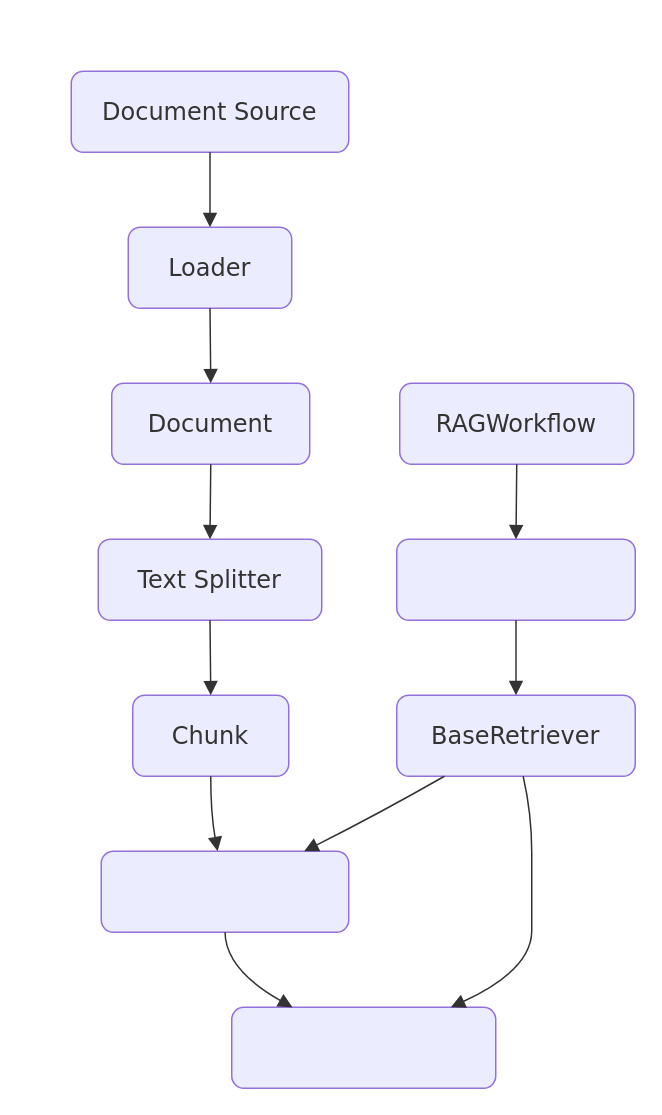
Some shapes in this 662 by 1115 pixel diagram are drawn without their labels. Here are the shapes that lost their labels. From the top down, the centre of each, then its label:
[515,579]: SearchService
[224,891]: BaseEmbedder
[363,1047]: BaseVectorStore
